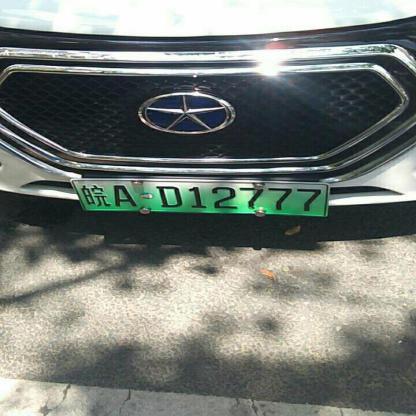lp: (72, 180, 328, 215)
